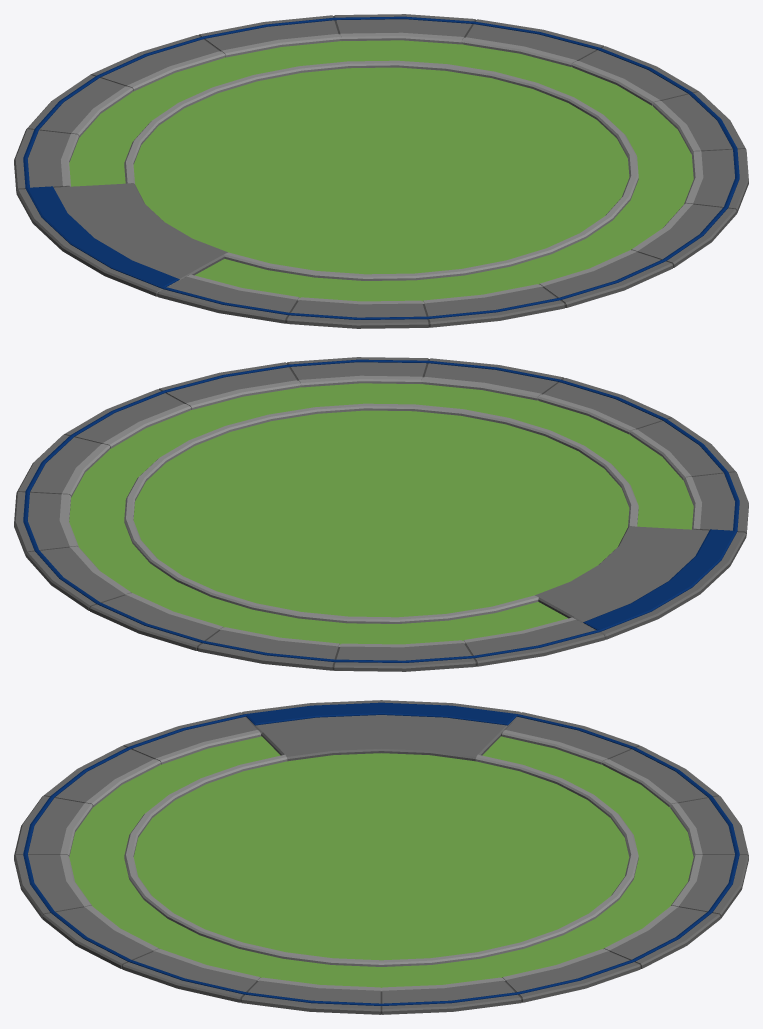
The model's file is W_O_Circle_Bottom_a_L0.fbx.
3 views of the same model, one above another, from view 1: azimuth 30°, elevation 25°; view 2: azimuth 150°, elevation 25°; view 3: azimuth 270°, elevation 25° (orthographic).
Visible parts, largest first — view 1: W_O_Circle_Bottom_a_L0; view 2: W_O_Circle_Bottom_a_L0; view 3: W_O_Circle_Bottom_a_L0.
Part boxes in pixels (x1,y1,x2,y2): W_O_Circle_Bottom_a_L0: (14, 14, 748, 328); W_O_Circle_Bottom_a_L0: (14, 357, 748, 671); W_O_Circle_Bottom_a_L0: (14, 700, 748, 1014).
Bounding box in the file's own units: 2.2 × 0.02 × 2.2.
